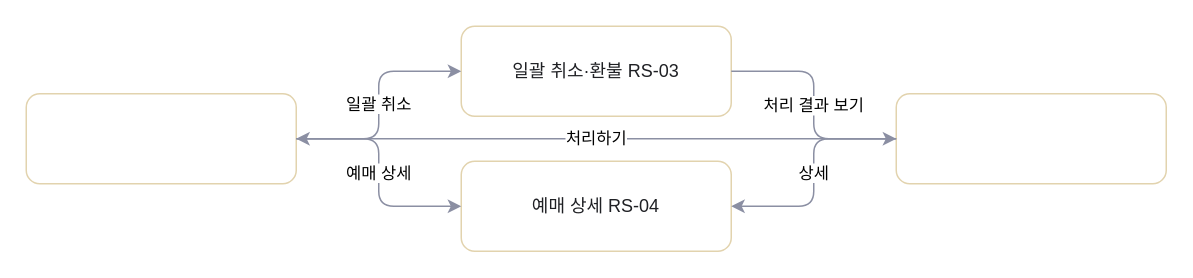
The diagram is 1193 pixels wide and 278 high, and some of its shapes have lost their labels. Each missing label, with the box of its shape:
예매 내역 RS-01: (895, 92, 1166, 184)
취소·환불 처리 RS-02: (25, 92, 296, 184)
